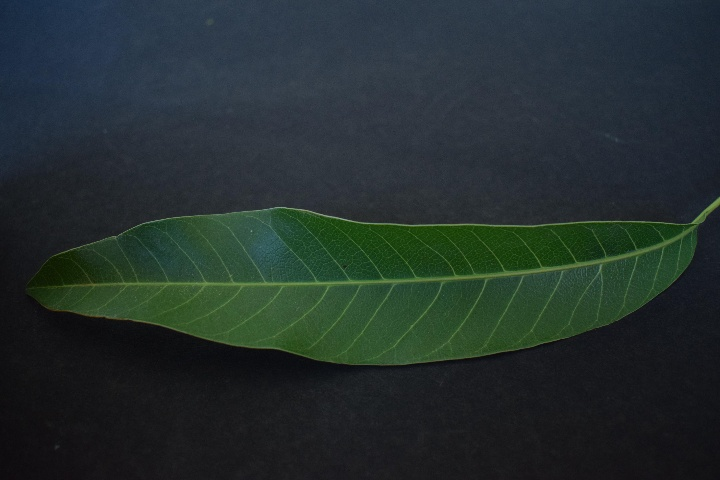healthy: (38, 200, 674, 375)
